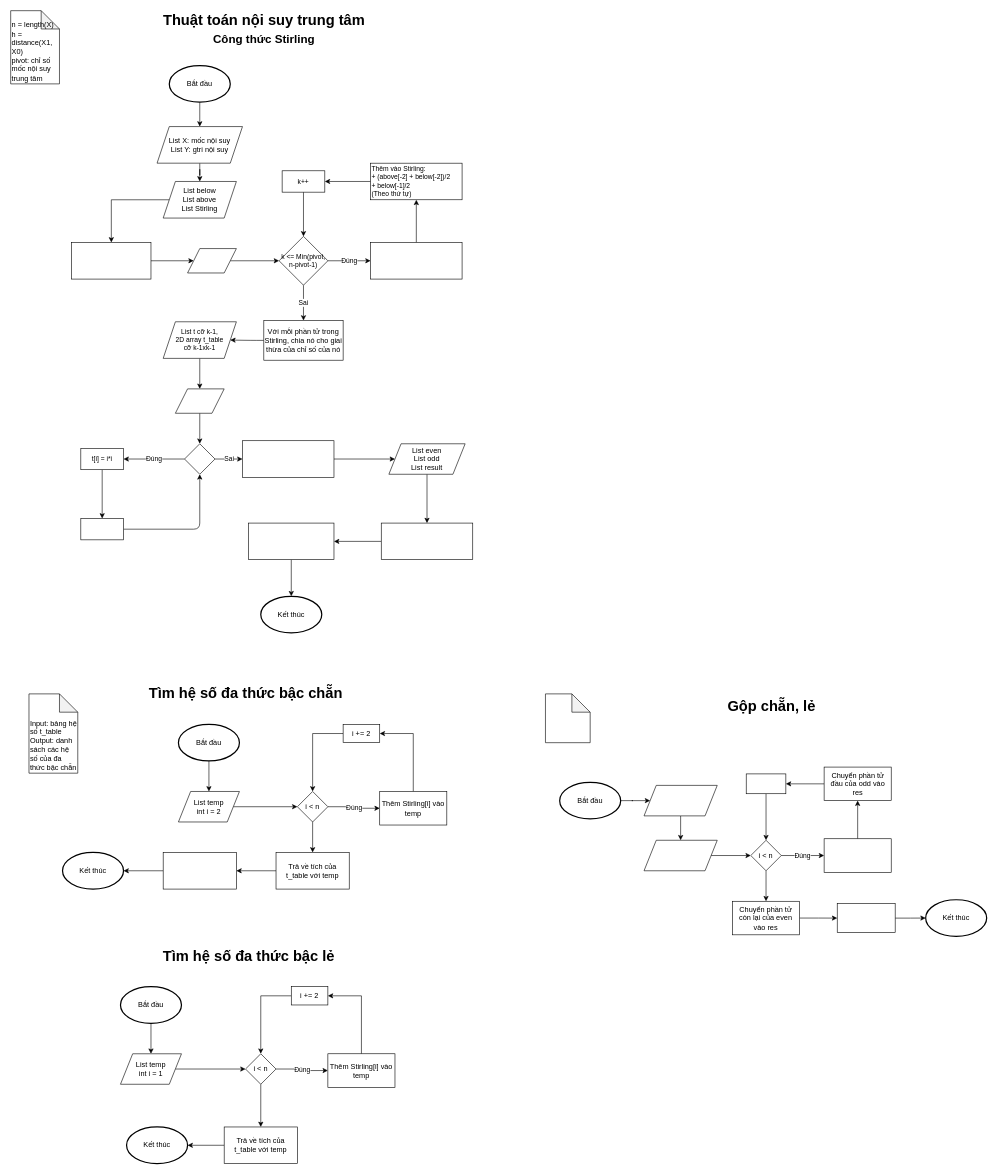
Image size: 998x1175. Some labels were removed from this diagram. The box of each missing label's shape, as (x1, y1, x2, y2) in pixels:
above = Add_above(pivot-k) below = Add_below(pivot+k): (370, 242, 462, 279)
Chuyển phần tử đầu của even vào res: (824, 838, 891, 872)
even = Find_even(t_table) odd = Find_odd(t_table): (381, 522, 473, 560)
i ++: (80, 518, 124, 540)
i < k-1: (184, 443, 215, 474)
i++: (746, 773, 786, 794)
Input: odd, even Output: list: (545, 693, 590, 743)
int i = 0: (175, 388, 224, 413)
k = 1: (187, 248, 236, 273)
List res: (643, 785, 717, 816)
n = Min(Length(odd), Length(even)) int i = 0: (643, 840, 717, 871)
result = Merge(odd, even): (248, 522, 334, 560)
Thêm Stirling[0] vào đầu temp: (163, 852, 236, 889)
Thêm Y[pivot] vào (below, above, Stirling): (71, 242, 151, 279)
Trả về res: (837, 903, 895, 933)
Xây dựng ma trận hệ số t: t_table = Construct_table(t): (242, 440, 334, 477)
